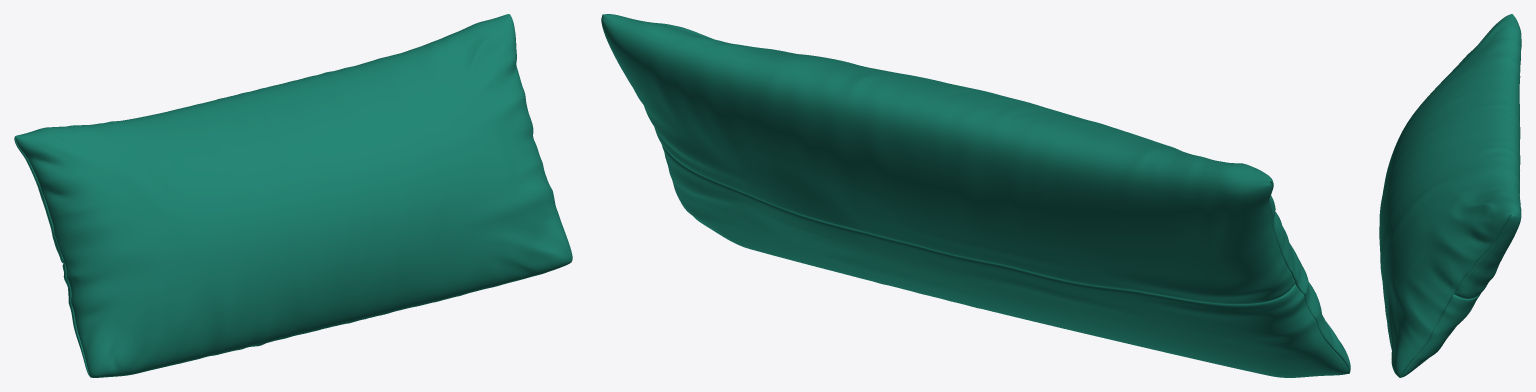
Rendered from SM_Schlafsofa_Kissen_02.fbx.
3 renders of one model, left to right at view 1: azimuth 30°, elevation 25°; view 2: azimuth 150°, elevation 25°; view 3: azimuth 270°, elevation 25°, orthographic. The views are drawn at different scales.
Visible parts, largest first — view 1: SM_Schlafsofa_Kissen_02; view 2: SM_Schlafsofa_Kissen_02; view 3: SM_Schlafsofa_Kissen_02.
Part boxes in pixels (box(x1,y1,x2,y2)): SM_Schlafsofa_Kissen_02: box(14, 14, 572, 377); SM_Schlafsofa_Kissen_02: box(601, 14, 1350, 377); SM_Schlafsofa_Kissen_02: box(1379, 14, 1521, 377).
Size of the model in its own units: 78.13 by 31.13 by 23.19.
